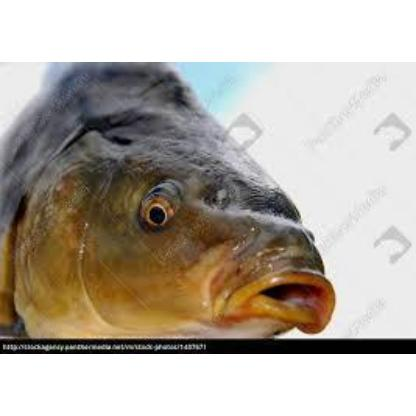ikan-mas: (0, 61, 338, 335)
